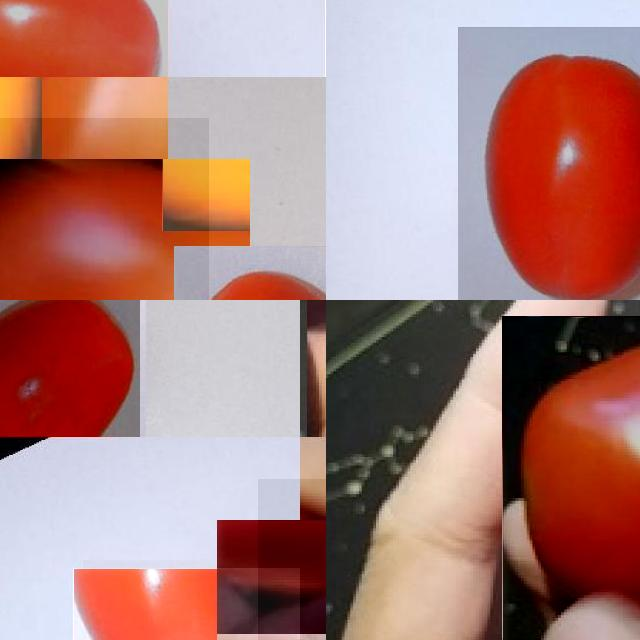Fresh Tomato: (458, 26, 640, 300), (502, 316, 640, 640), (0, 118, 209, 300), (0, 300, 140, 437), (73, 568, 300, 640), (0, 0, 168, 77), (258, 478, 326, 640)
